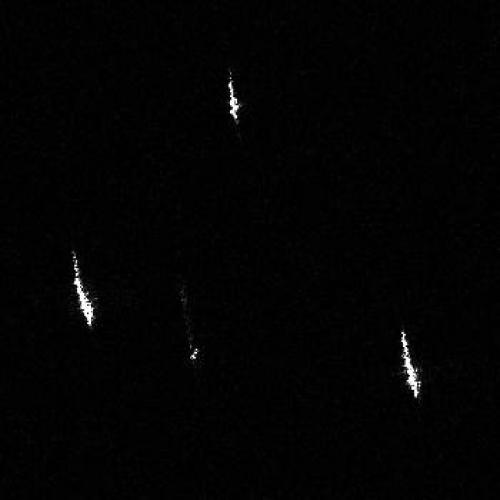ship: (180, 286, 204, 370), (71, 265, 96, 331), (399, 329, 421, 400), (224, 77, 241, 122)
